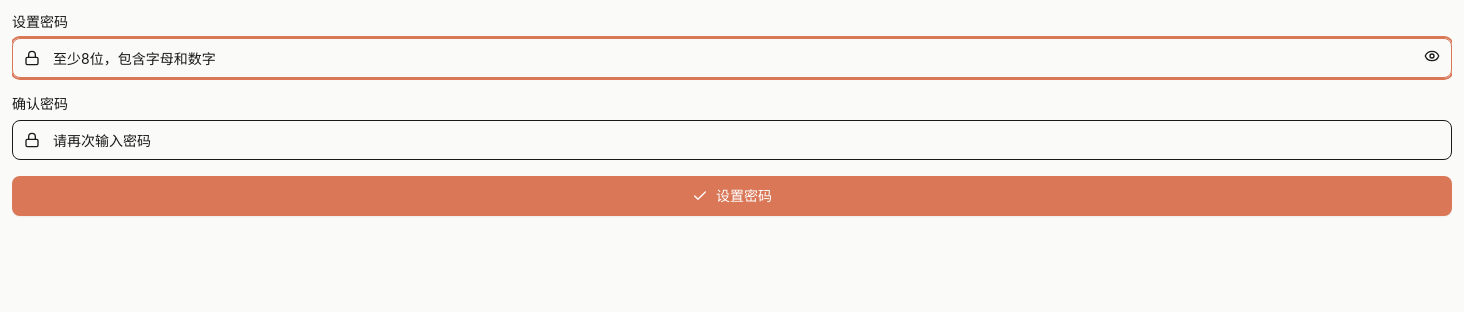
Test: SetPasswordForm 组件 › 密码缺少字母 - 显示错误
Type "12345678" into the password field with placeholder "至少8位，包含字母和数字" at [732, 58], box [12, 38, 1452, 78]
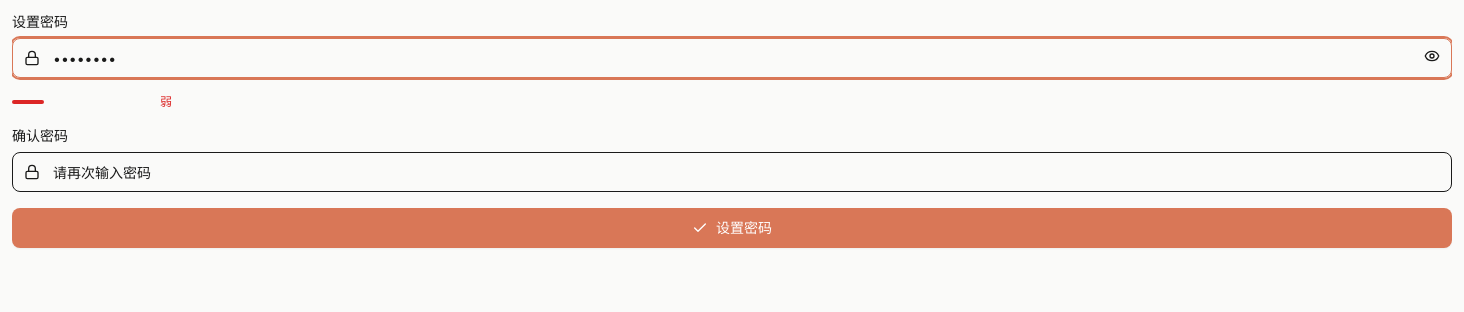
Click the button "设置密码" at [732, 228], box [12, 208, 1452, 248]
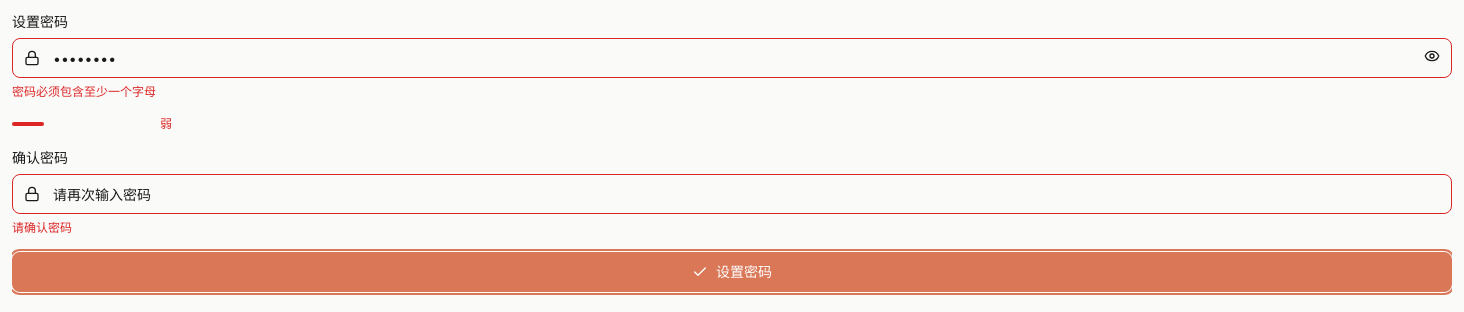
Now the text "密码必须包含至少一个字母" is shown, box [12, 84, 156, 99]
